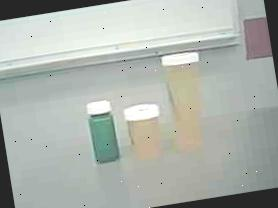Bottle A: (158, 44, 216, 158)
Bottle B: (120, 98, 170, 166)
Bottle C: (82, 94, 126, 169)
